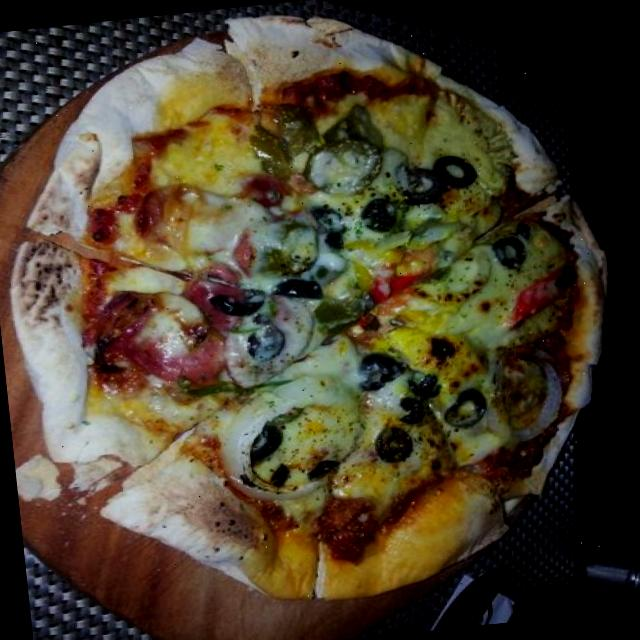Olive: (380, 150, 480, 213), (434, 382, 500, 446), (264, 261, 333, 316), (229, 317, 294, 368), (392, 368, 443, 426), (199, 282, 261, 326), (370, 424, 420, 474), (307, 208, 357, 258), (350, 353, 404, 398), (242, 424, 290, 466), (364, 194, 395, 243)
pepperoni: (108, 272, 250, 398)
pizza: (11, 16, 604, 602)
